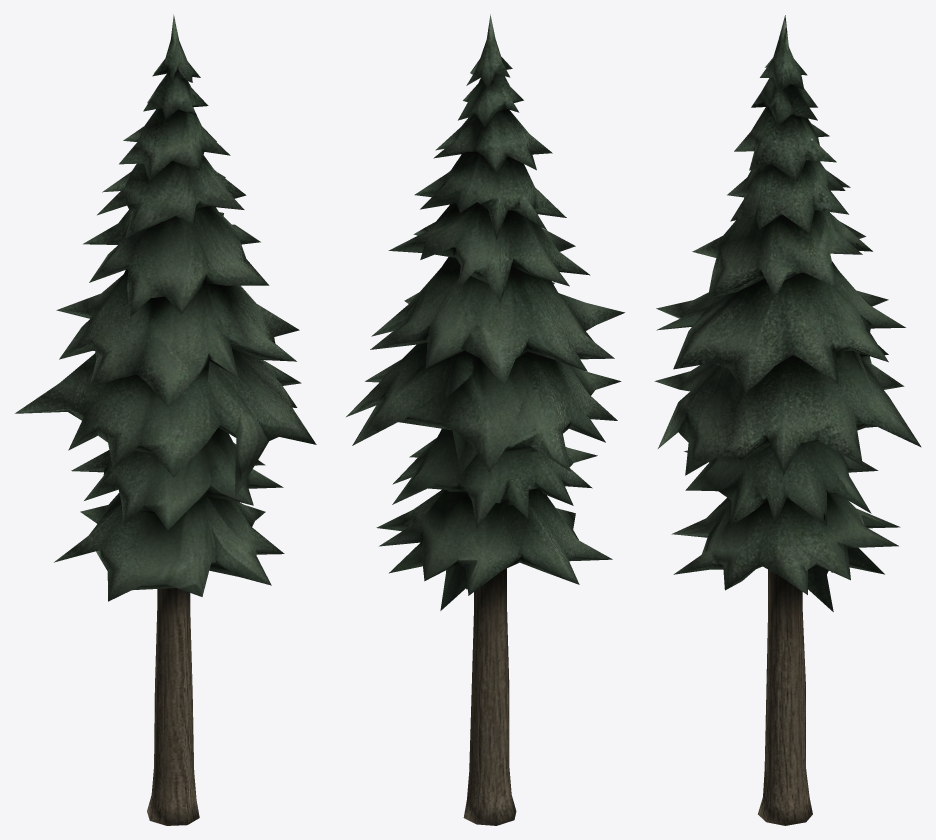
The model's file is spruce-tripo-04.glb.
3 renders of one model, left to right at view 1: azimuth 30°, elevation 25°; view 2: azimuth 150°, elevation 25°; view 3: azimuth 270°, elevation 25°, orthographic.
Parts seen in each view (by area): view 1: tripo_node_2b257051-fca7-4edb-8ad8-1dcf3d6d7bd8; view 2: tripo_node_2b257051-fca7-4edb-8ad8-1dcf3d6d7bd8; view 3: tripo_node_2b257051-fca7-4edb-8ad8-1dcf3d6d7bd8.
Part boxes in pixels (left/top/right/bottom): tripo_node_2b257051-fca7-4edb-8ad8-1dcf3d6d7bd8: left=15, top=14, right=316, bottom=825; tripo_node_2b257051-fca7-4edb-8ad8-1dcf3d6d7bd8: left=346, top=14, right=624, bottom=825; tripo_node_2b257051-fca7-4edb-8ad8-1dcf3d6d7bd8: left=654, top=15, right=921, bottom=825.
Bounding box in the file's own units: 0.3223 × 0.998 × 0.3027.
Materials: 1 (1 with a texture image).
